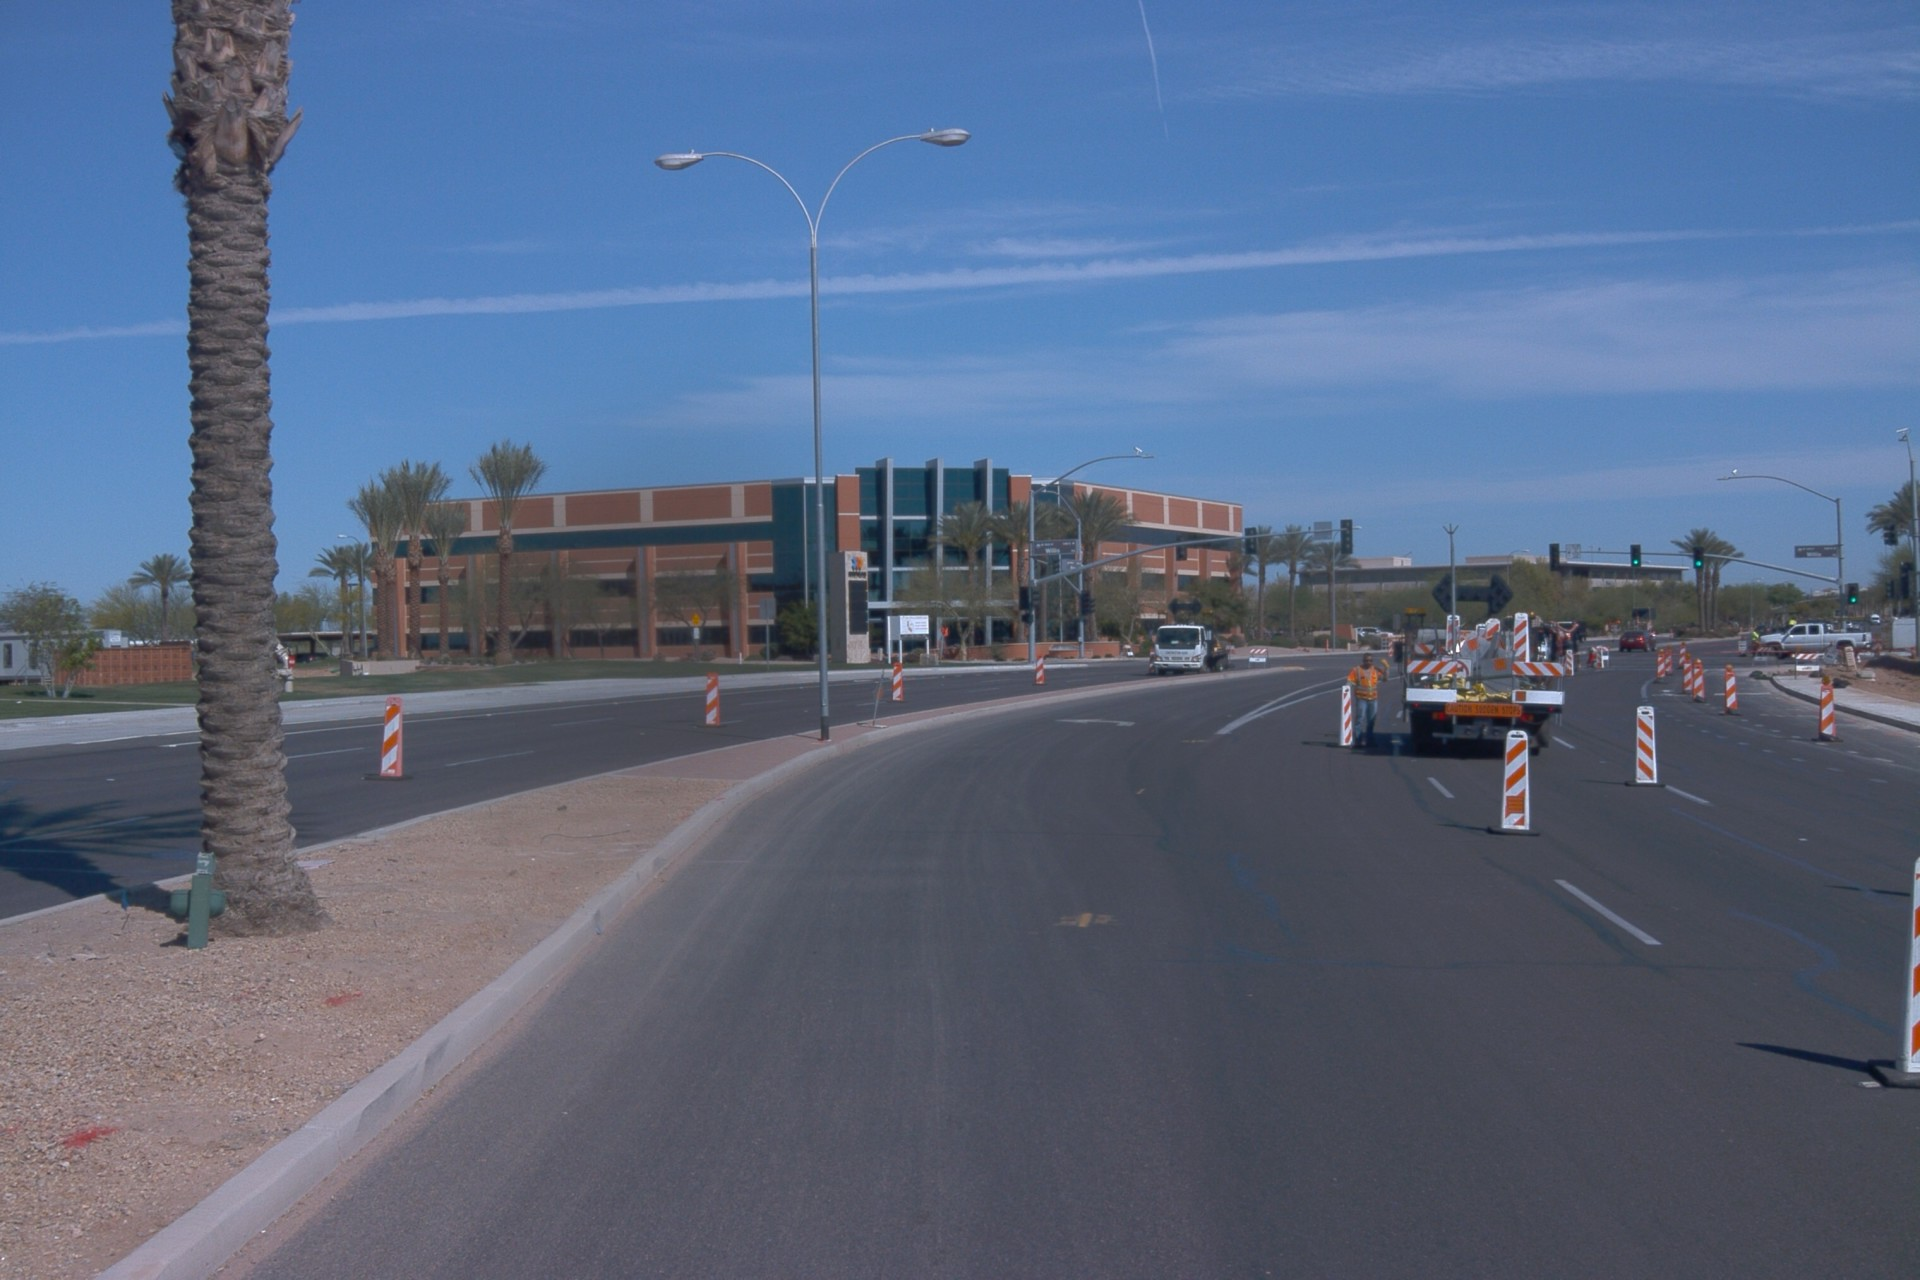TYPE_PEDESTRIAN: (1346, 652, 1392, 752)
TYPE_VEHICLE: (1388, 570, 1574, 764), (1149, 622, 1241, 684), (1502, 613, 1584, 678), (1754, 621, 1879, 662), (1618, 626, 1661, 657), (1552, 618, 1589, 644), (1354, 624, 1395, 640)
